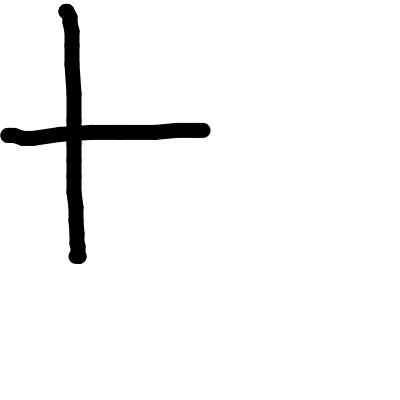plus: (1, 2, 211, 264)
